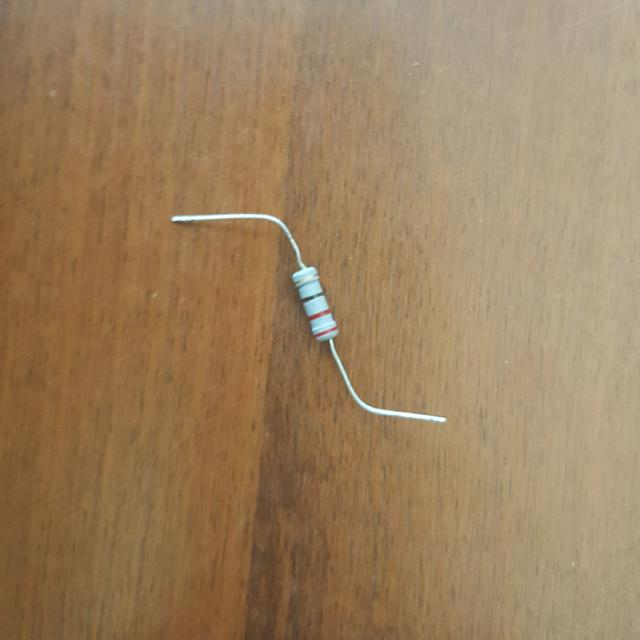brown: (302, 291, 324, 303)
gold: (295, 275, 318, 287)
red: (307, 308, 330, 320), (313, 324, 335, 336)
resistor: (277, 256, 349, 351)
